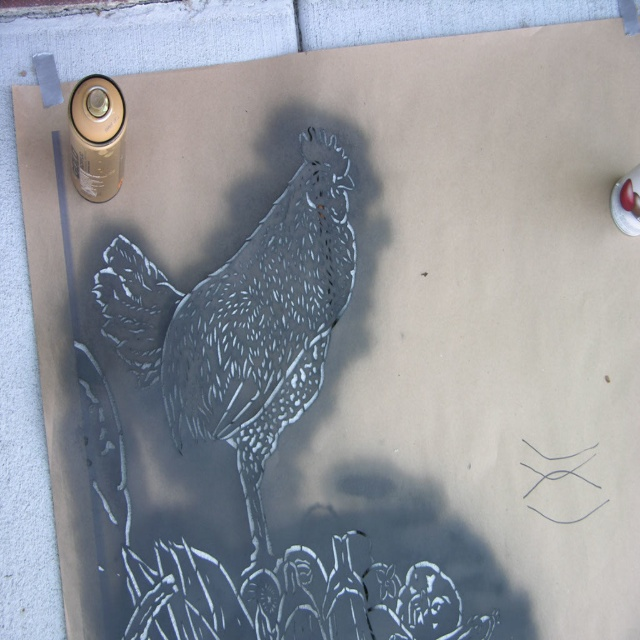Chicken: (145, 112, 353, 592)
